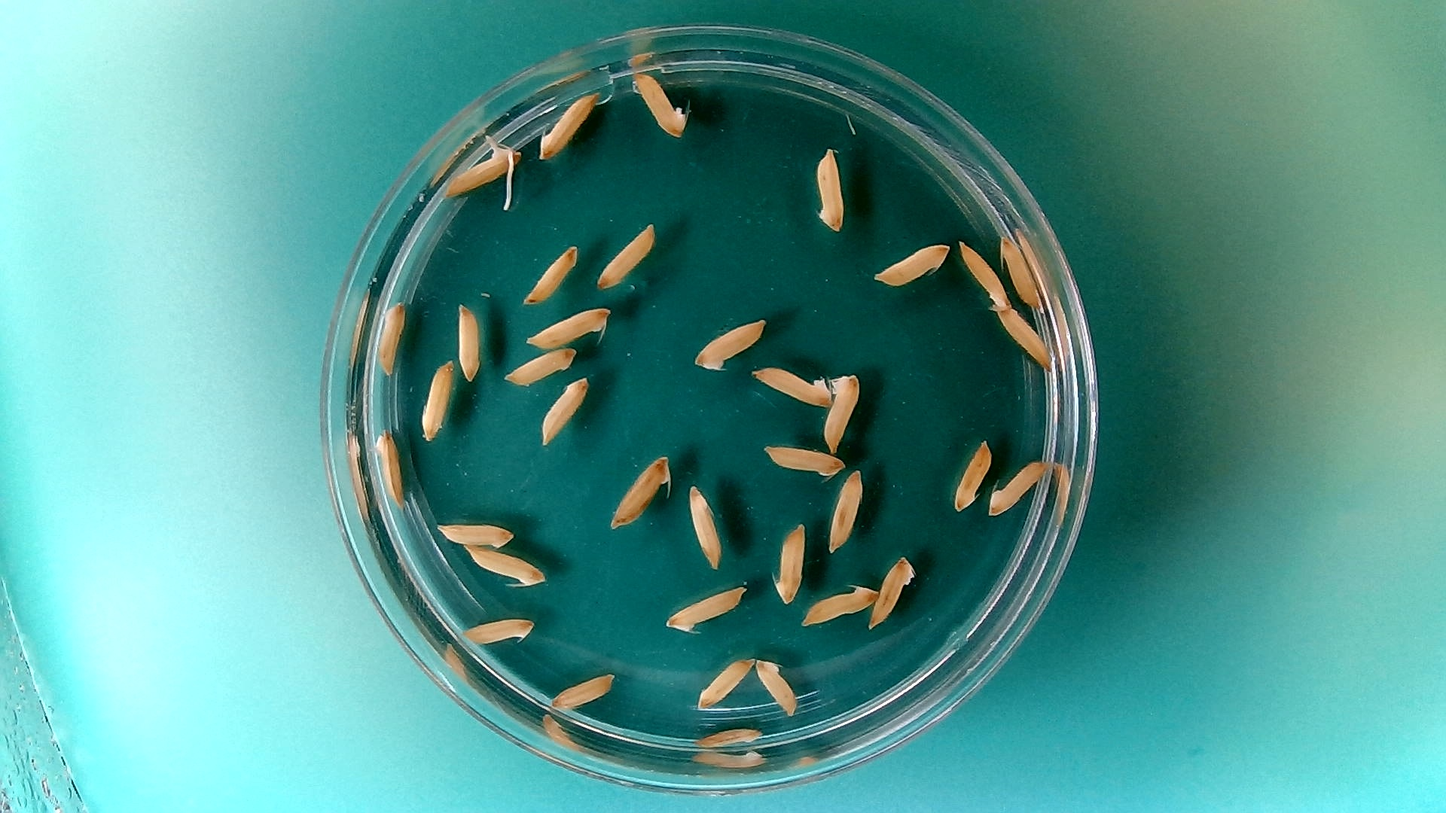no: (606, 450, 673, 532), (536, 87, 602, 161), (662, 580, 748, 634), (627, 66, 690, 139), (594, 219, 657, 291), (691, 315, 770, 372), (522, 303, 612, 351), (986, 455, 1051, 516), (798, 580, 880, 628), (747, 361, 832, 407), (956, 236, 1009, 309), (537, 373, 590, 446), (868, 553, 917, 631), (872, 239, 951, 287), (993, 305, 1052, 368), (463, 544, 546, 587), (522, 242, 580, 303), (694, 654, 755, 711), (687, 480, 725, 571), (826, 467, 865, 555), (950, 434, 993, 513), (822, 370, 862, 453), (810, 143, 846, 234), (998, 233, 1041, 309), (770, 519, 807, 606), (418, 358, 454, 442), (761, 443, 847, 478), (548, 669, 617, 712), (502, 346, 576, 386), (372, 427, 406, 510), (754, 656, 800, 717), (459, 613, 536, 648), (374, 299, 407, 376), (687, 723, 765, 755), (434, 518, 514, 549), (456, 300, 482, 382)
yes: (440, 136, 520, 198)
